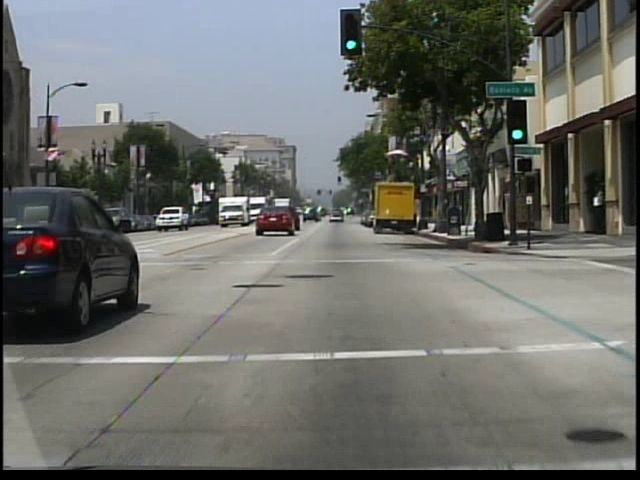person: (591, 189, 604, 233)
